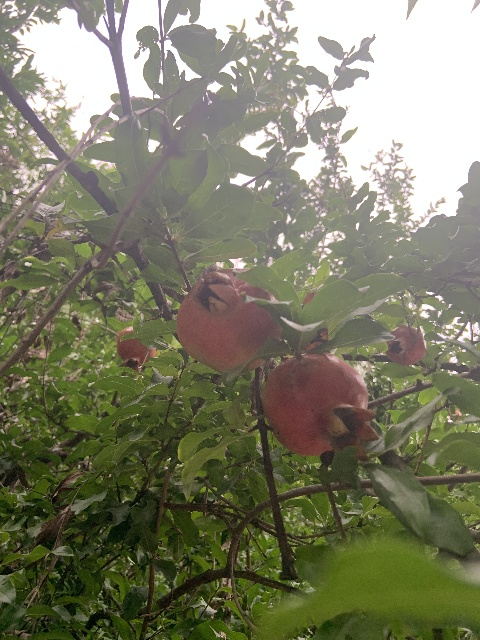ripe: (261, 352, 378, 458), (175, 268, 280, 372), (116, 326, 156, 373), (385, 325, 425, 366)
